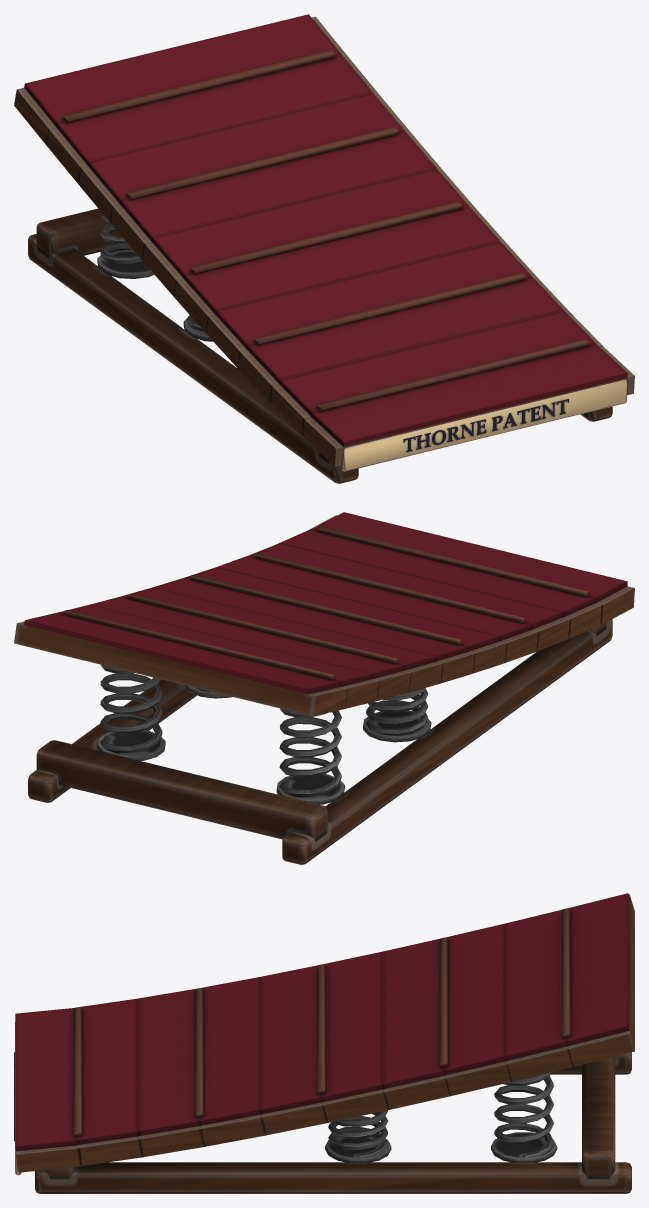
Rendered from Springboard.fbx.
3 views of the same model, one above another, from view 1: azimuth 30°, elevation 25°; view 2: azimuth 150°, elevation 25°; view 3: azimuth 270°, elevation 25° (orthographic). The views are drawn at different scales.
Visible parts, largest first — view 1: Springboard; view 2: Springboard; view 3: Springboard.
Boxes of the visible parts, x1=… form: Springboard: x1=14, y1=14, x2=634, y2=483; Springboard: x1=14, y1=512, x2=634, y2=864; Springboard: x1=14, y1=893, x2=634, y2=1193.
Size of the model in its own units: 200 by 114 by 374.
